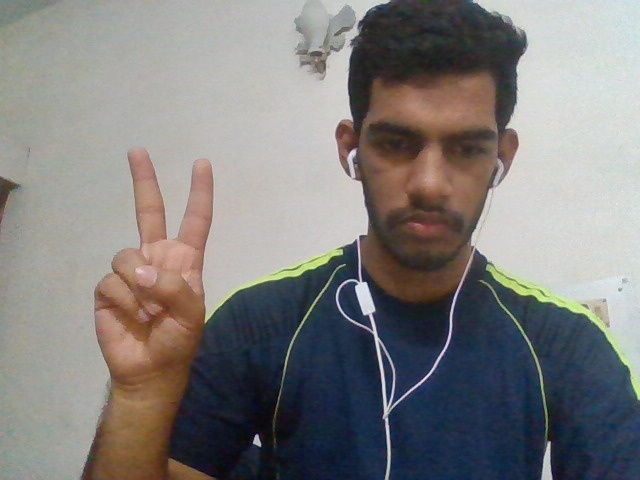bye: (78, 155, 231, 375)
